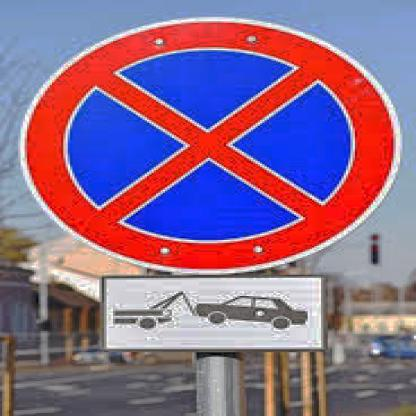No stopping: (16, 15, 400, 276)
